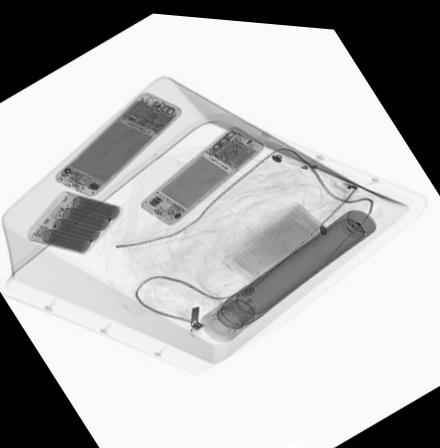Powerbank: (23, 188, 127, 253)
